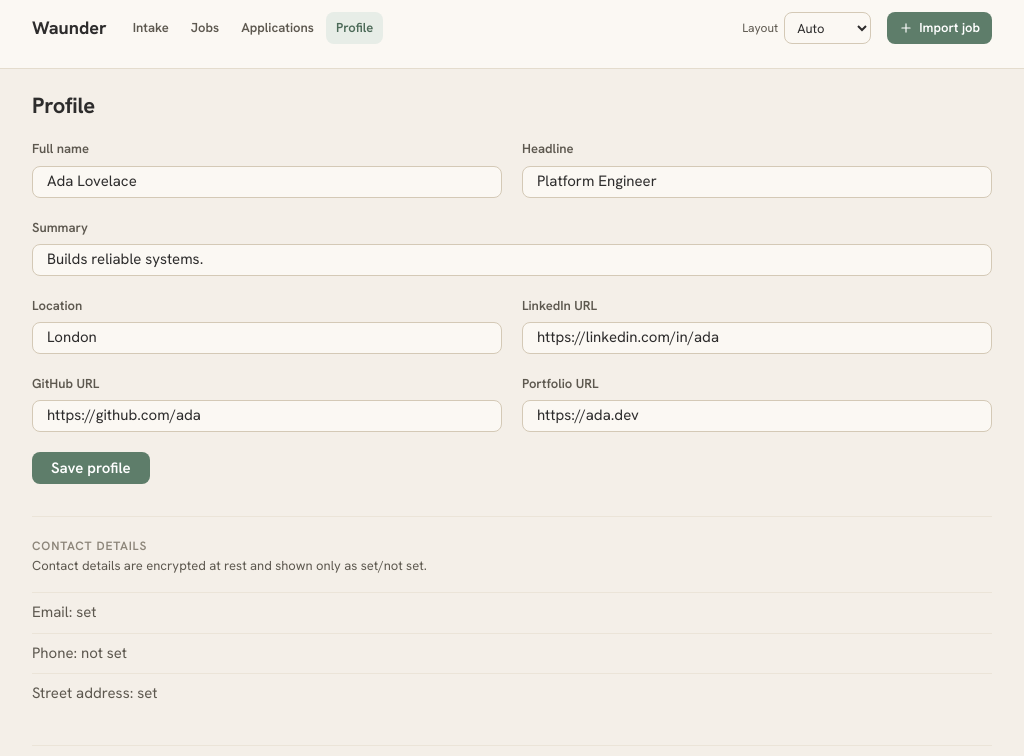
it: profile save › reports a 422 with Rails' sentence
Step 1. Clear the field labelled "Full name" → (267, 182), box [32,166,502,198]
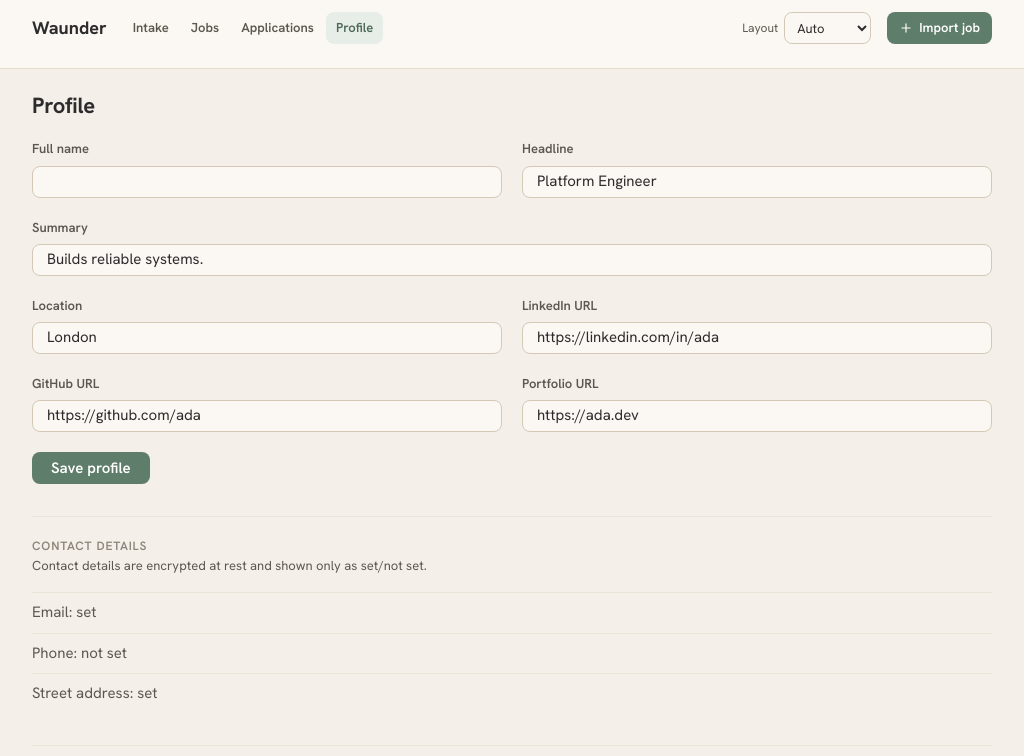
Step 2. Click the button "Save profile" → (91, 468), box [32,452,150,484]
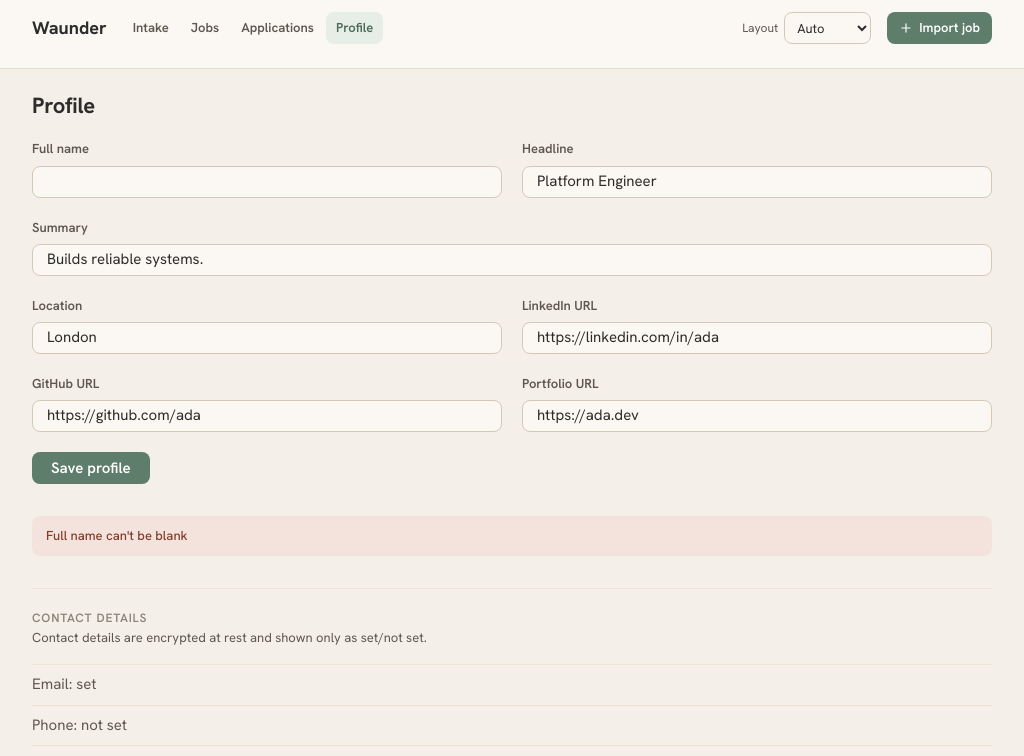
Expected: the message "Full name can't be blank" is shown, [32,516,992,556]
